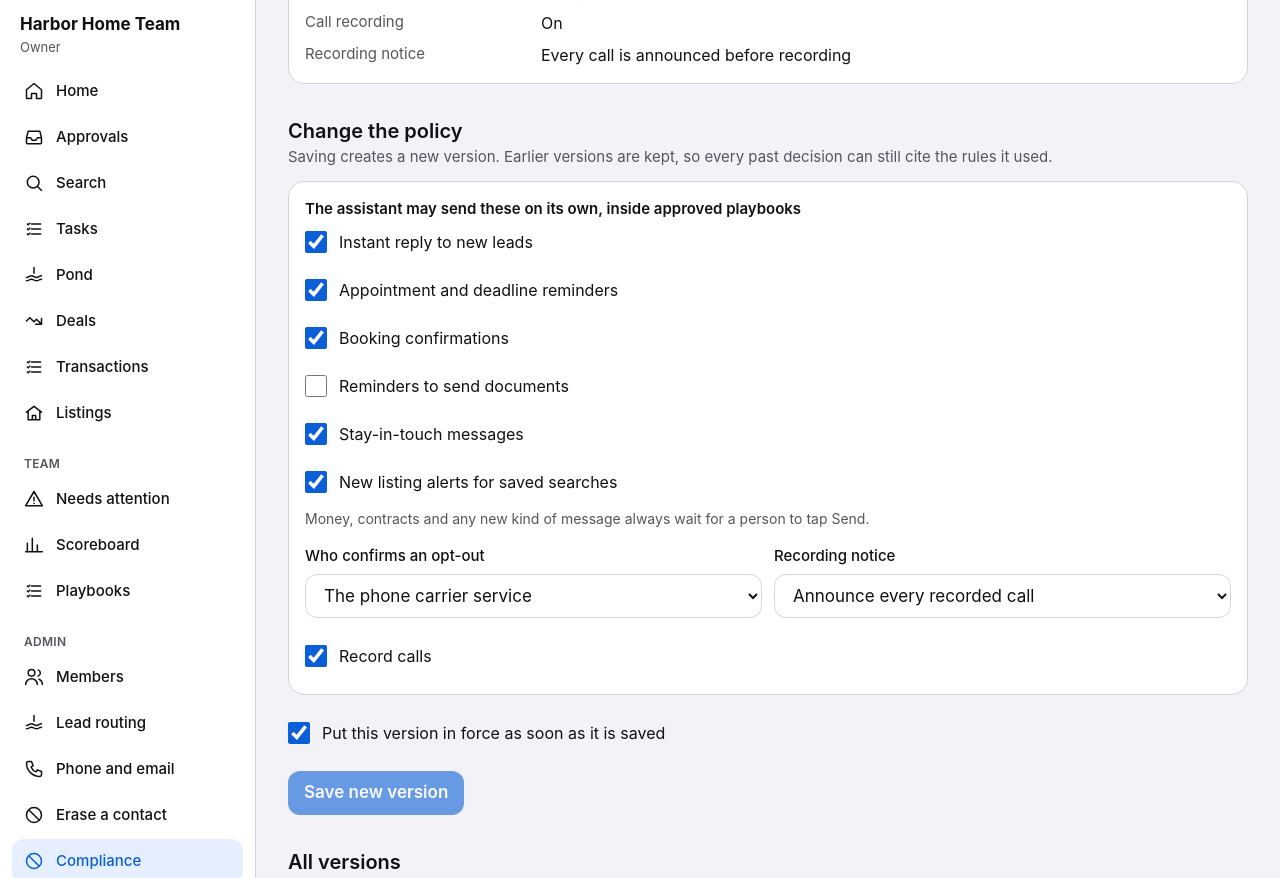
Compliance policy › when the server says an attestation is needed, the page shows it instead of an error code
The width and height of the screenshot is (1280, 878).
(page scrolled)
Click the checkbox labelled "Stay-in-touch messages" at (316, 434), box [305,423,327,445]
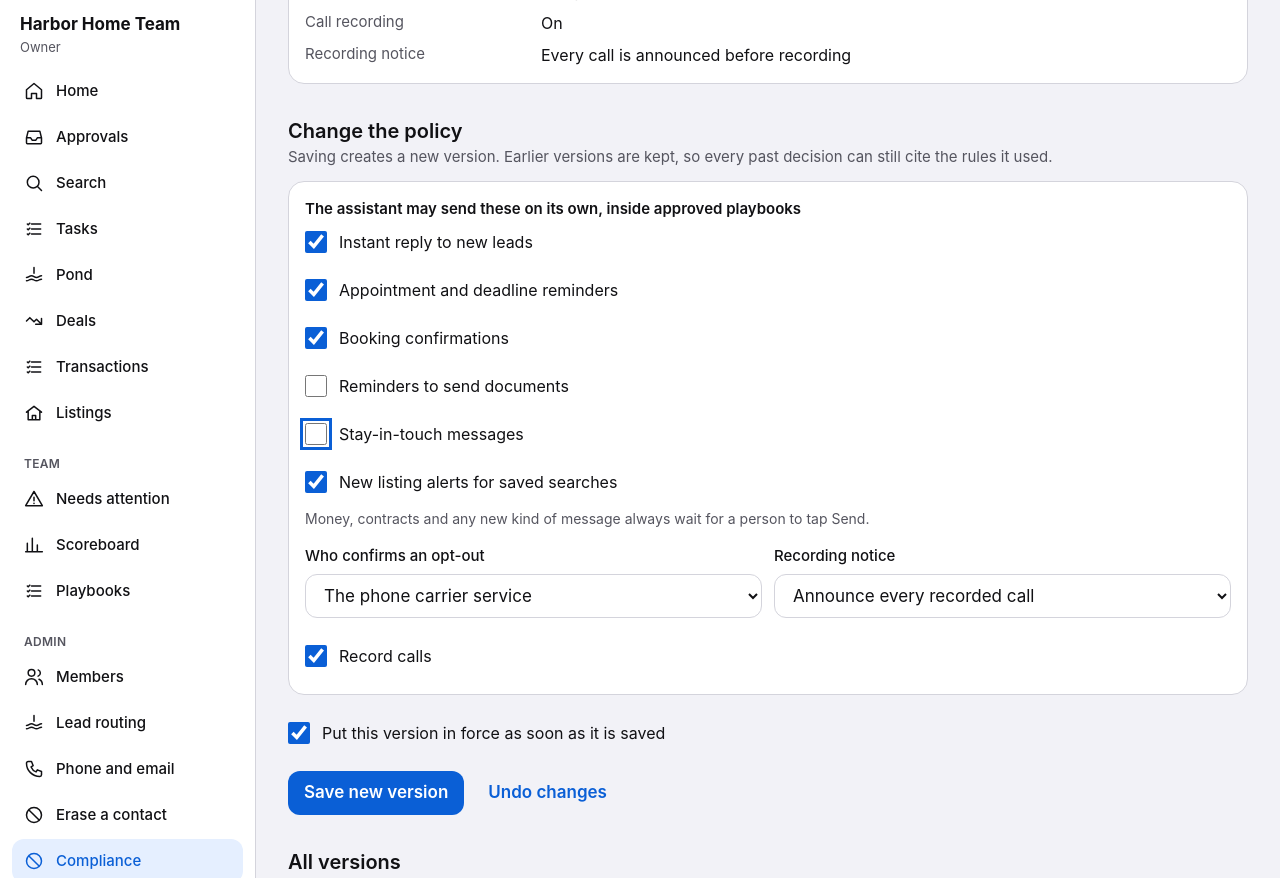
Click the button "Save new version" at (376, 792), box [288,770,464,814]
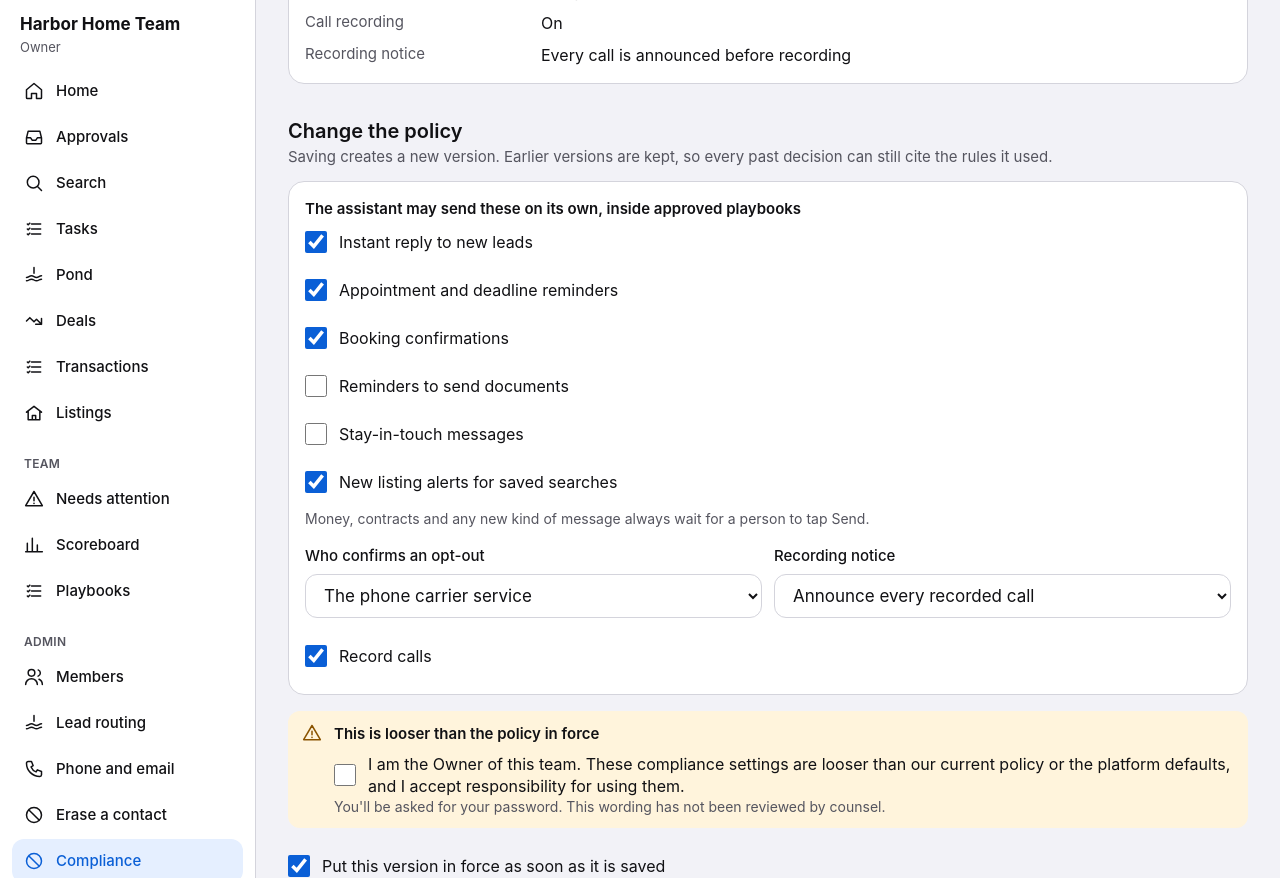
Check: the checkbox named "I am the Owner of this team. These compliance settings are looser than our current policy or the platform defaults, and " is shown, box [334,764,356,786]
